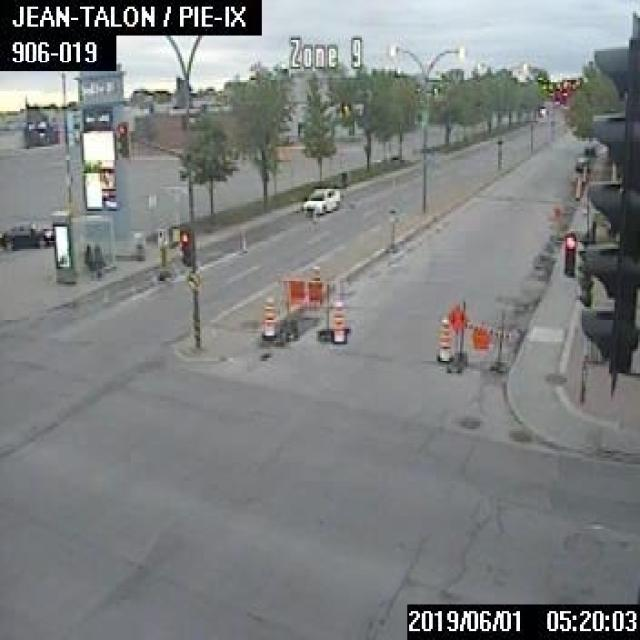construction: (446, 299, 508, 372), (274, 268, 333, 338), (434, 316, 452, 362), (260, 293, 275, 338), (331, 296, 345, 342)
pedestrian: (93, 241, 103, 276), (82, 243, 92, 277)
vehicle: (0, 222, 53, 245), (300, 184, 340, 213), (574, 154, 588, 170), (582, 142, 596, 155)
